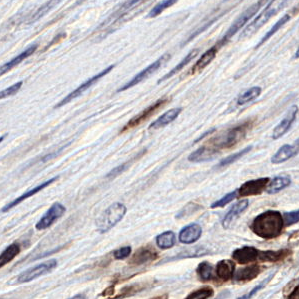Lymphocyte: (252, 209, 283, 238)
